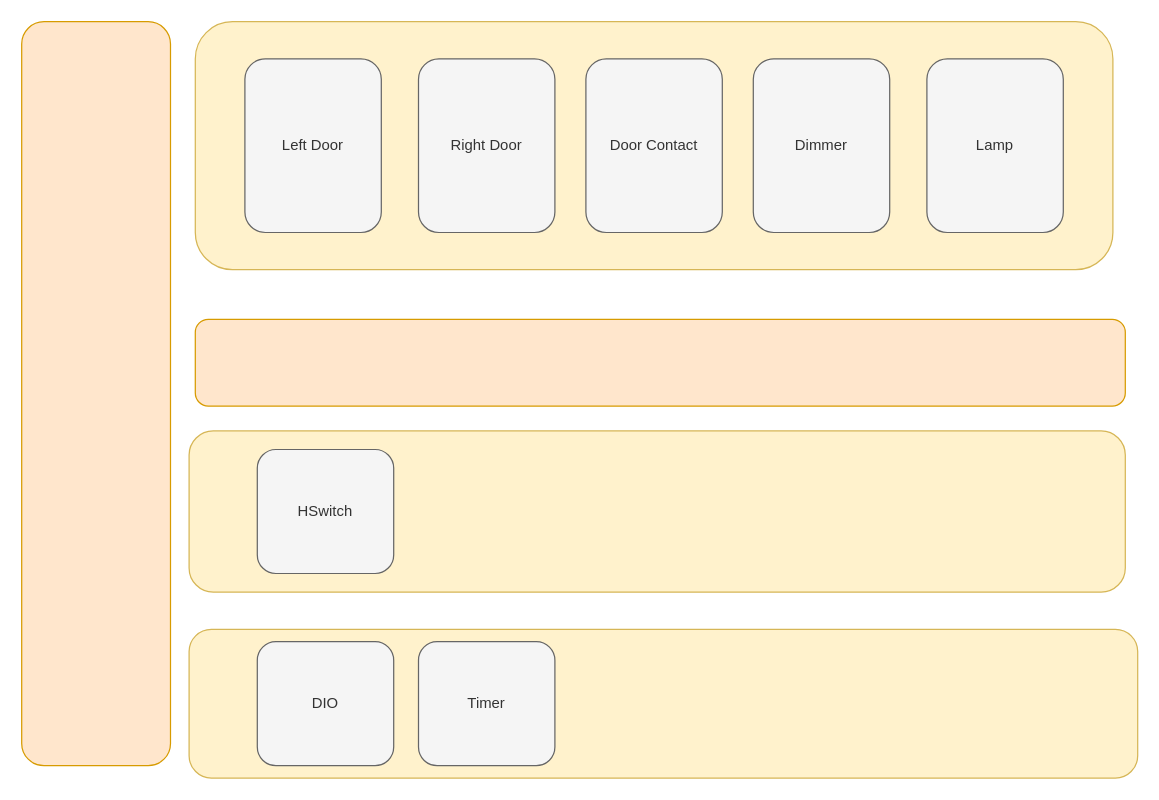
Image size: 1159x800. Some labels were removed from this diagram. Each missing label, with the centre of its shape:
RTE: (659,362)
STD_TYPES BIT_MATH OS: (95,393)
